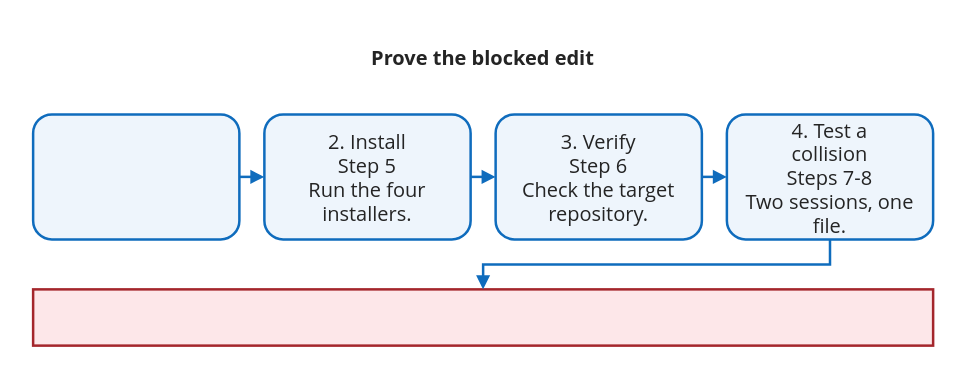
This 966x391 diagram has some shape labels left out. Each missing label, with the centre of its shape:
1. Inspect Steps 1-4 Prepare files; inspect state.: [135,176]
Expected proof: the second edit is BLOCKED.: [482,317]
